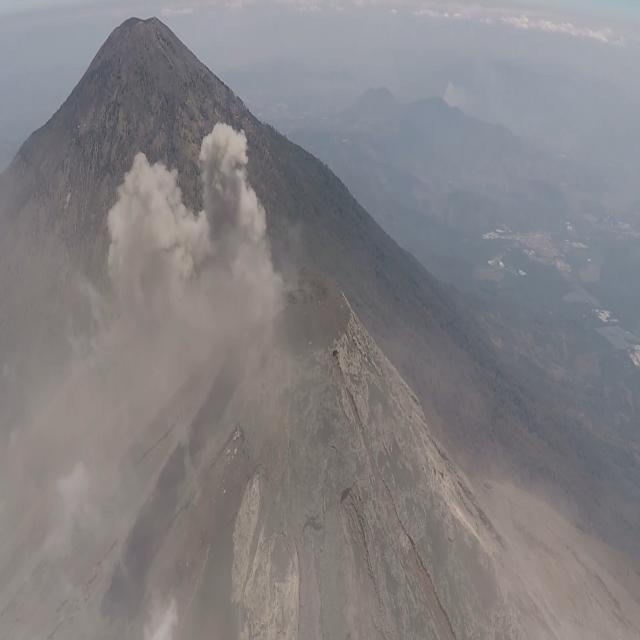Plume: (108, 118, 297, 326)
Summit: (0, 252, 640, 640)
